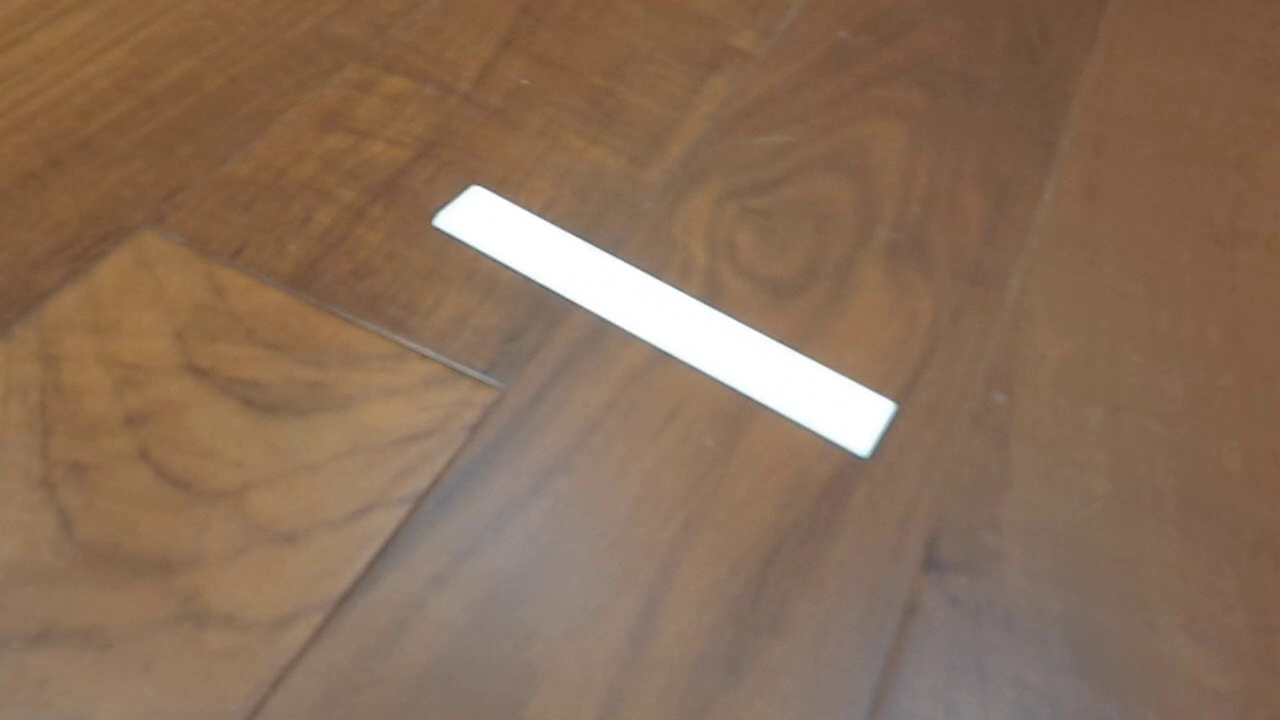ruler: (429, 182, 900, 461)
